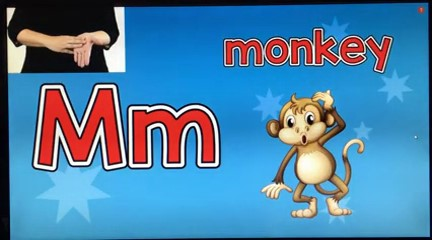M: (45, 27, 103, 70)
